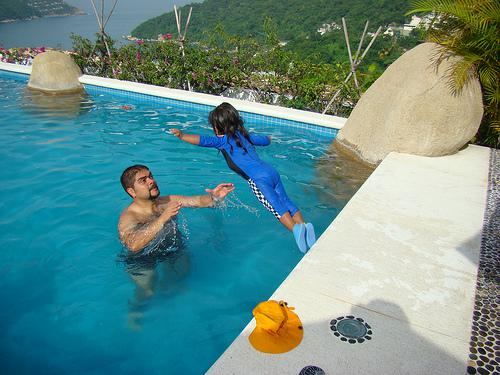human: (115, 162, 235, 307)
